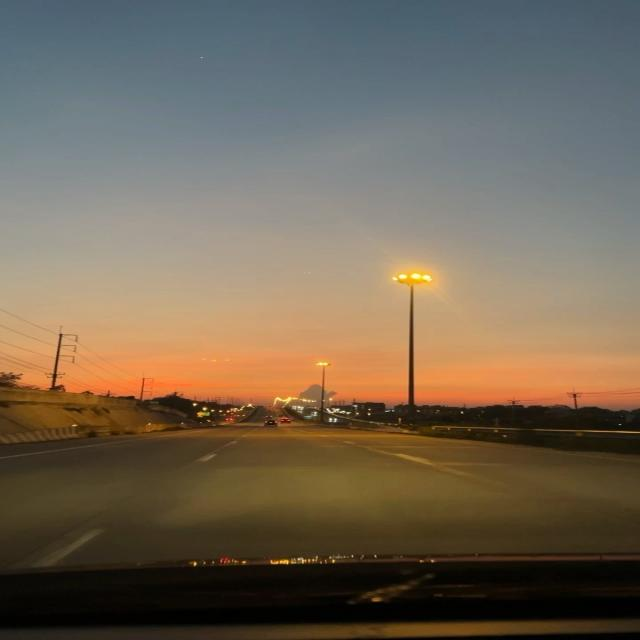Poth-hole: (144, 435, 571, 541)
